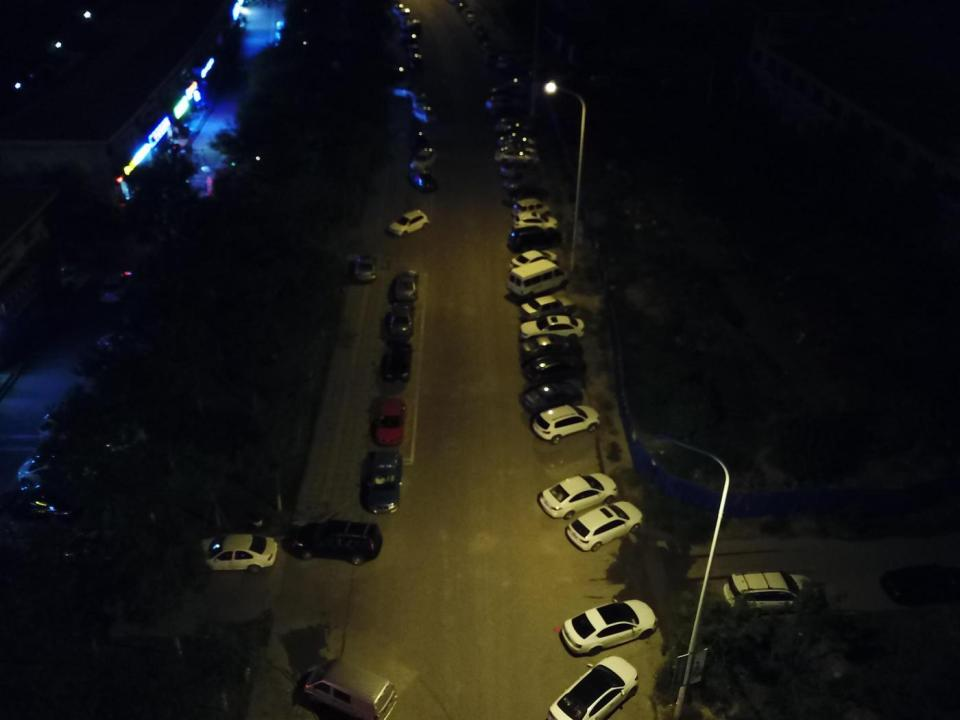car: (548, 655, 644, 720), (562, 597, 658, 654), (37, 404, 142, 455), (724, 567, 828, 615), (16, 450, 111, 498), (290, 518, 383, 566), (564, 498, 641, 553), (536, 470, 619, 519), (3, 486, 93, 530), (190, 528, 276, 574), (878, 558, 960, 606), (49, 527, 139, 568), (530, 400, 601, 443), (362, 447, 404, 514), (91, 329, 158, 367), (522, 353, 590, 386), (520, 380, 588, 411), (516, 333, 580, 365), (521, 313, 585, 345), (374, 396, 410, 446), (520, 290, 578, 320), (383, 337, 414, 382), (100, 267, 136, 304), (388, 206, 431, 236), (505, 247, 560, 270), (508, 226, 560, 250), (510, 211, 560, 234), (507, 183, 549, 209), (386, 298, 414, 336), (496, 144, 539, 166), (352, 249, 378, 284), (500, 169, 542, 190), (494, 115, 536, 136), (391, 268, 417, 300), (511, 199, 551, 219), (409, 148, 440, 173), (407, 168, 439, 192), (496, 131, 538, 149), (484, 94, 524, 112), (496, 158, 535, 176), (487, 83, 528, 99), (410, 129, 432, 146), (483, 49, 500, 65), (496, 55, 512, 72), (476, 30, 494, 43), (481, 41, 498, 52), (471, 22, 486, 33), (464, 13, 478, 24), (460, 7, 474, 17)
van: (289, 655, 398, 720), (507, 257, 569, 300)
